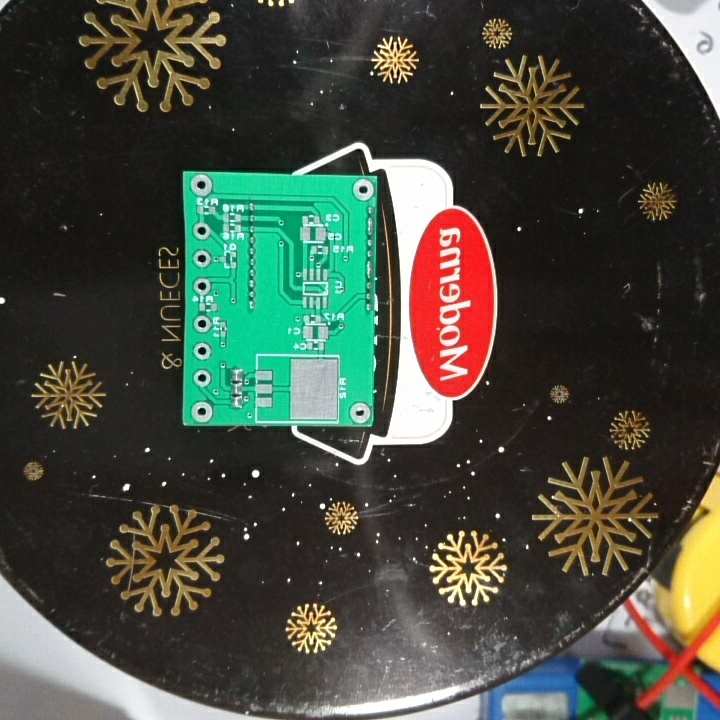F: (188, 173, 215, 198), (189, 398, 217, 422), (351, 176, 374, 203), (191, 312, 213, 338), (347, 399, 372, 421), (191, 341, 214, 362), (191, 368, 213, 389), (192, 276, 213, 298), (191, 221, 211, 243), (191, 249, 211, 268)
P: (362, 258, 374, 279), (364, 216, 375, 236)
